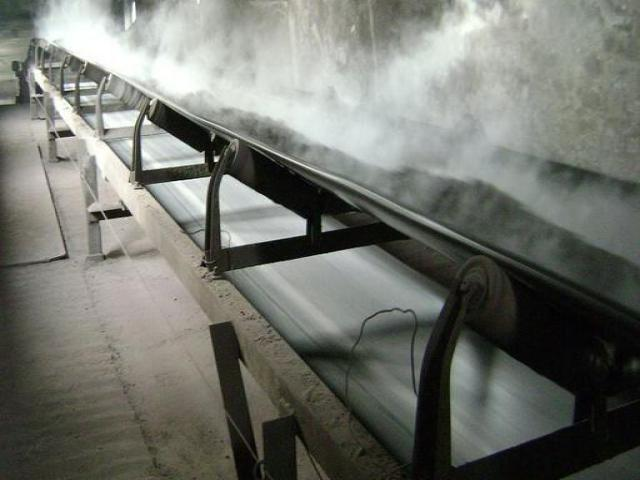conveyor: (17, 32, 638, 479)
